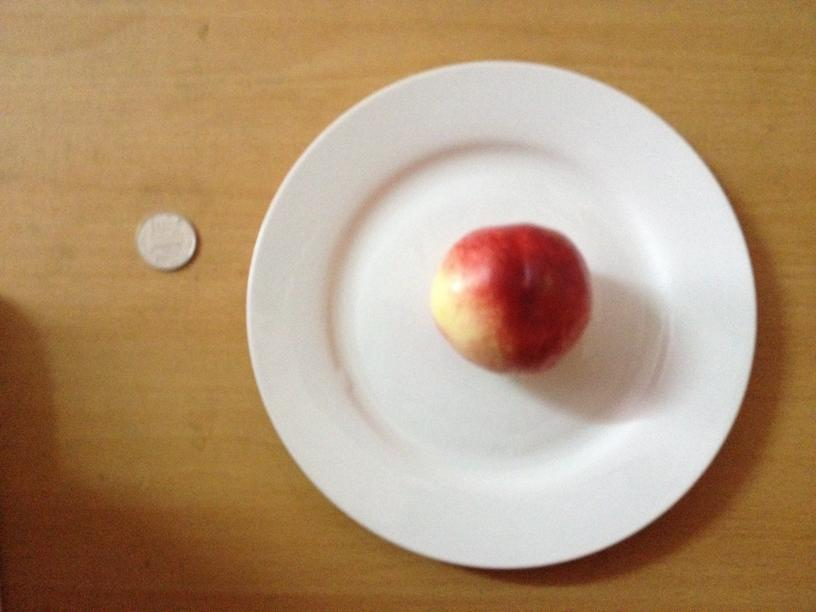coin: (136, 213, 197, 270)
peach: (429, 222, 593, 377)
